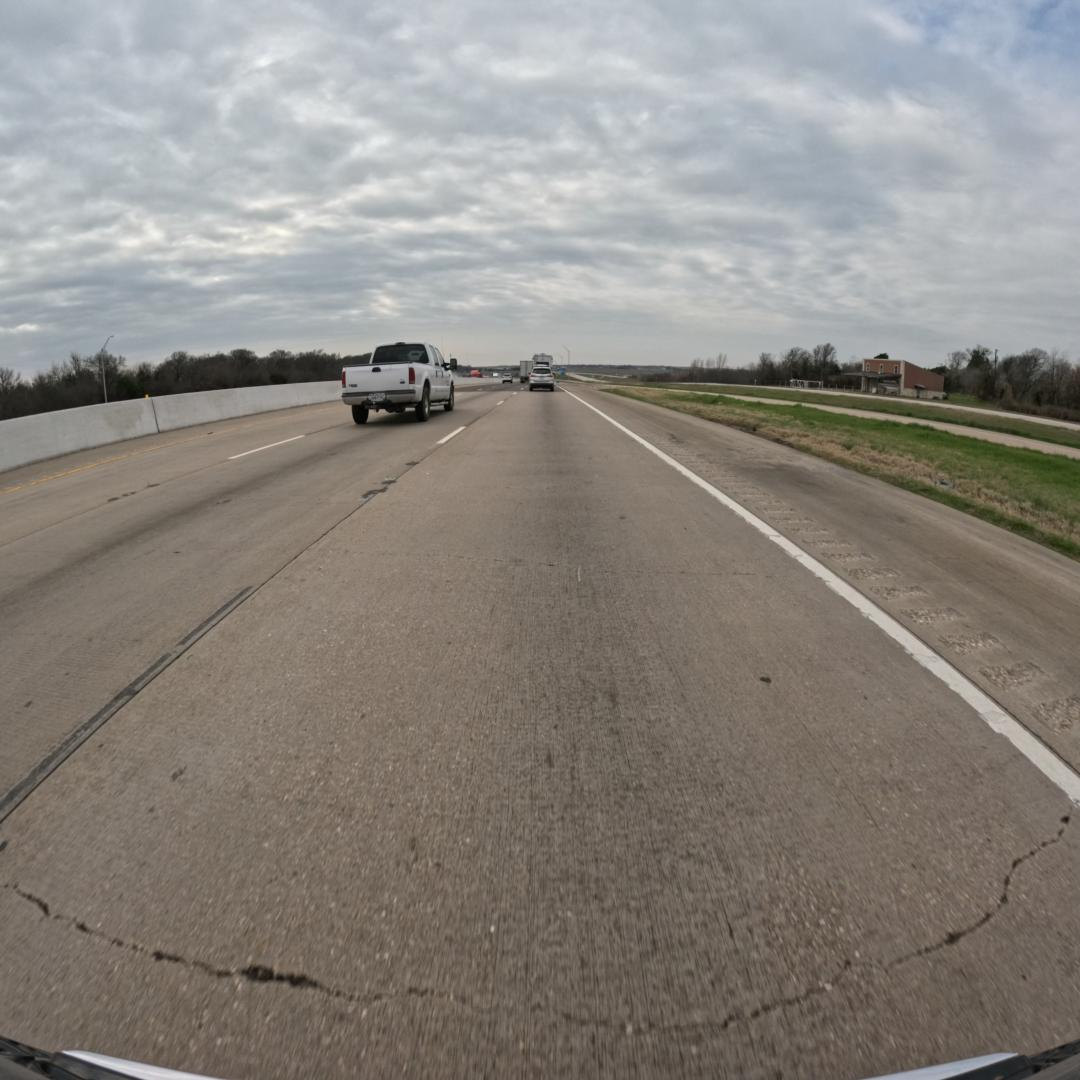lane0: (0, 389, 1080, 1080)
lane1: (0, 390, 517, 824)
